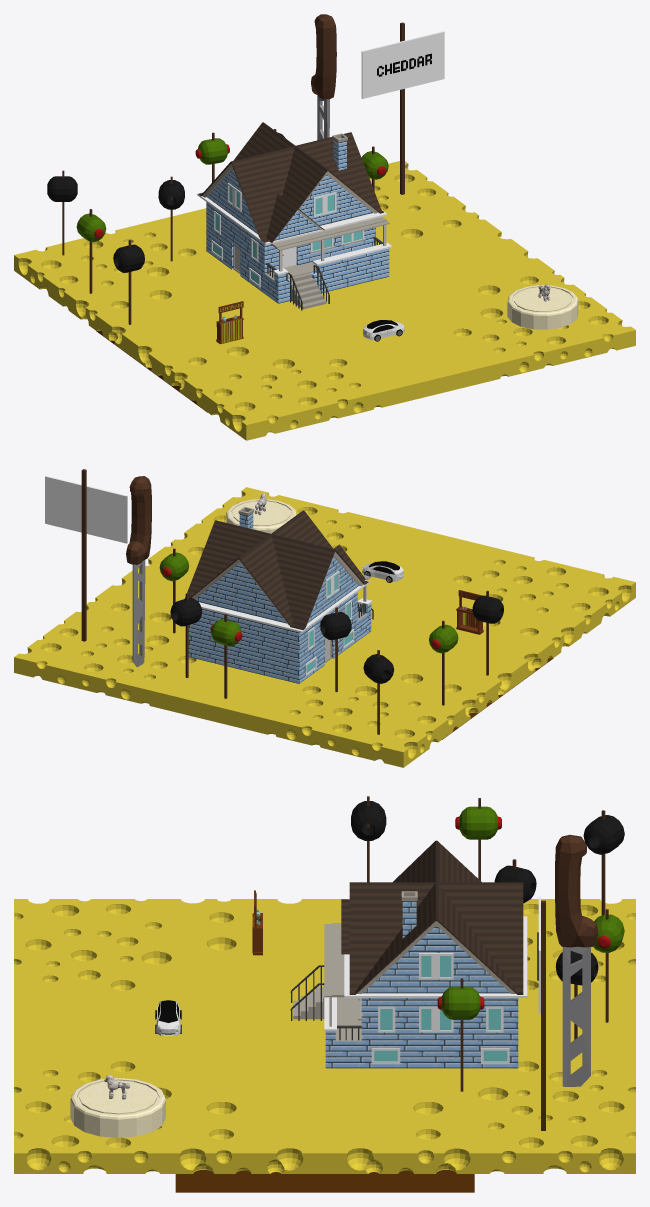
3 renders of one model, top to bottom at view 1: azimuth 30°, elevation 25°; view 2: azimuth 150°, elevation 25°; view 3: azimuth 270°, elevation 25°, orthographic. The views are drawn at different scales.
Visible parts, largest first — view 1: Cube.022, Cube.547, Cube.023, Cylinder.016, Cube.024, Sphere.017, Sphere.016, OBJRANDOM_LEMONADE_STAND, Sphere.018, Sphere.020, Sphere.022, VEHICLES_TESLA (+1 smaller); view 2: Cube.022, Cube.547, Cube.023, Cube.024, Cylinder.016, Sphere.021, Sphere.022, Sphere.020, Sphere.017, Sphere.016, Sphere.018, Sphere.019 (+2 smaller); view 3: Cube.022, Cube.547, Cube.024, UNDERGROUND_ART_PIECE_VAN_GOGH, Cylinder.016, Sphere.019, Sphere.016, Cube.023, Sphere.018, Sphere.017, Sphere.022, VEHICLES_TESLA (+2 smaller).
Boxes of the visible parts, x1,y1,x2,y2 form: Cube.022: [14, 161, 635, 440]; Cube.547: [197, 122, 392, 310]; Cube.023: [361, 22, 444, 194]; Cylinder.016: [507, 285, 578, 329]; Cube.024: [311, 14, 336, 140]; Sphere.017: [113, 240, 144, 324]; Sphere.016: [47, 170, 77, 255]; OBJRANDOM_LEMONADE_STAND: [216, 301, 243, 344]; Sphere.018: [76, 209, 106, 293]; Sphere.020: [158, 176, 184, 261]; Sphere.022: [195, 132, 229, 182]; VEHICLES_TESLA: [363, 320, 404, 341]; Cube.022: [14, 487, 635, 767]; Cube.547: [183, 506, 373, 683]; Cube.023: [45, 469, 127, 641]; Cube.024: [126, 476, 151, 667]; Cylinder.016: [226, 499, 296, 533]; Sphere.021: [170, 593, 202, 677]; Sphere.022: [210, 614, 242, 698]; Sphere.020: [320, 607, 351, 692]; Sphere.017: [472, 590, 503, 675]; Sphere.016: [363, 650, 394, 734]; Sphere.018: [429, 620, 458, 705]; Sphere.019: [159, 548, 189, 633]; Cube.022: [14, 899, 635, 1173]; Cube.547: [290, 840, 527, 1068]; Cube.024: [555, 834, 598, 1086]; UNDERGROUND_ART_PIECE_VAN_GOGH: [175, 1170, 474, 1192]; Cylinder.016: [70, 1078, 165, 1137]; Sphere.019: [437, 978, 484, 1091]; Sphere.016: [583, 810, 624, 915]; Cube.023: [537, 897, 545, 1130]; Sphere.018: [455, 798, 501, 880]; Sphere.017: [351, 796, 386, 882]; Sphere.022: [593, 909, 624, 1022]; VEHICLES_TESLA: [155, 1000, 181, 1035].
Size of the model in its own units: 3917 by 2132 by 4000.
Materials: 36 (5 with a texture image).
